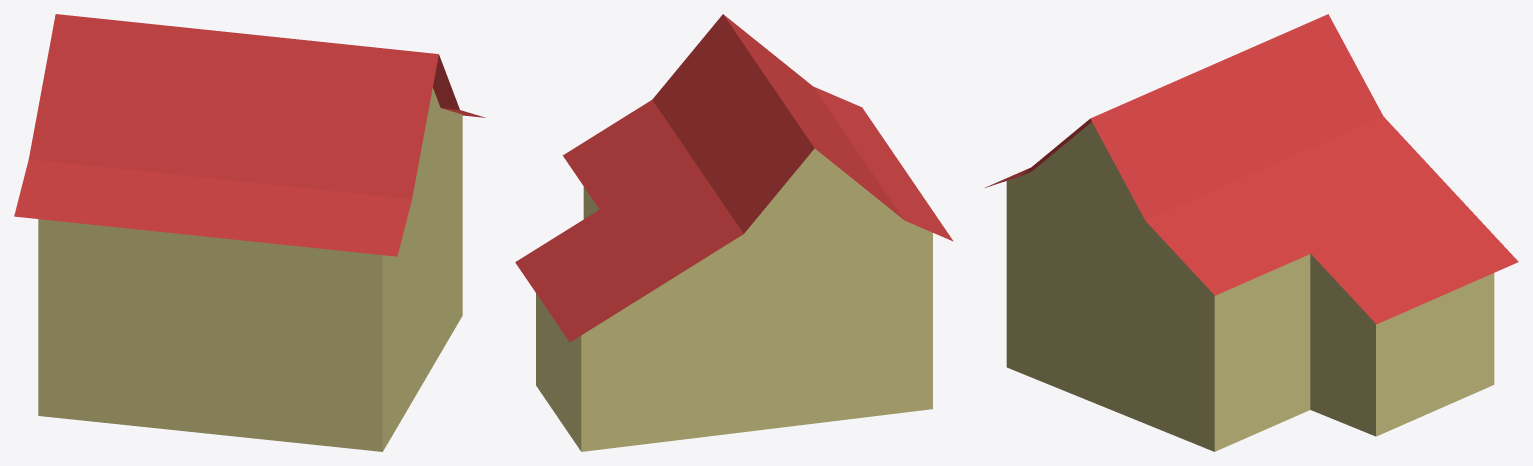
The picture shows the model from 3 angles, left to right: view 1: azimuth 30°, elevation 25°; view 2: azimuth 150°, elevation 25°; view 3: azimuth 270°, elevation 25°; orthographic projection. The views are drawn at different scales.
Bounding box in the file's own units: 20.24 × 23.03 × 13.88.
